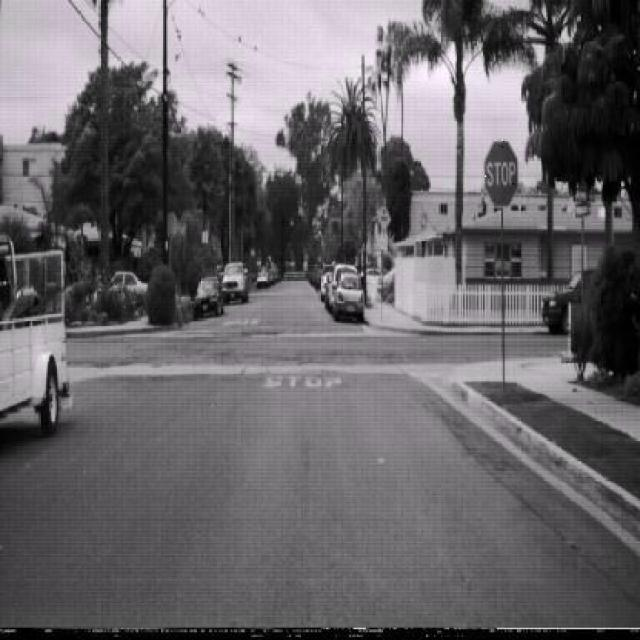stop: (483, 138, 518, 209)
